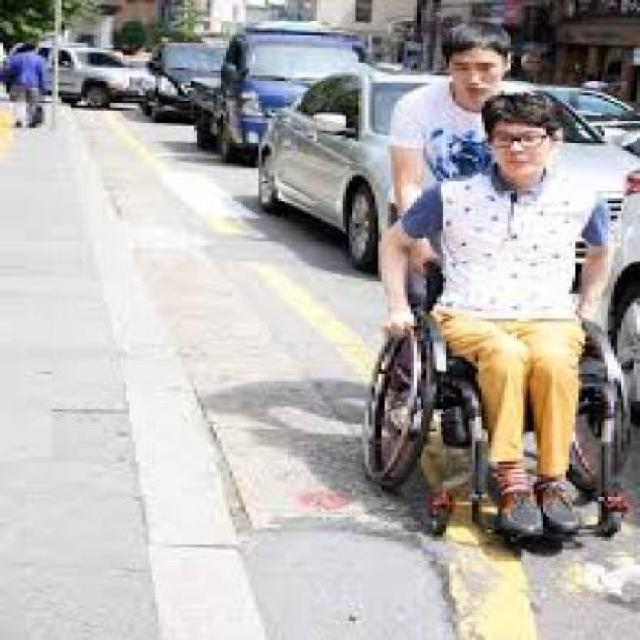Person: (368, 98, 626, 542), (396, 24, 536, 279), (0, 33, 51, 129)
